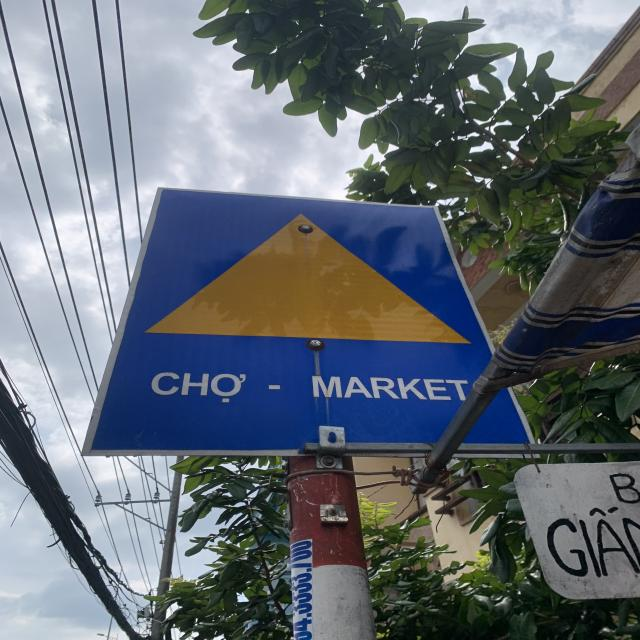Cho_Quay_Xe: (79, 181, 517, 452)
